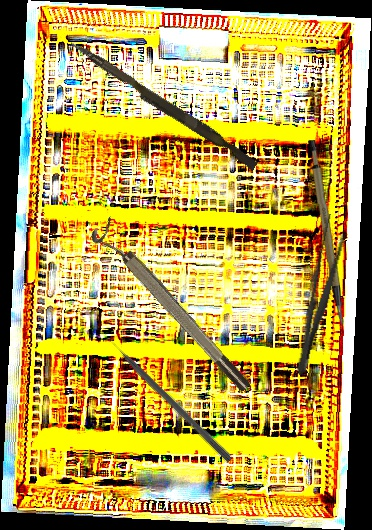Dressing Forceps: (288, 213, 351, 378)
Fixation Ring: (87, 216, 255, 401)
Pusher: (64, 39, 262, 171), (101, 330, 235, 464)
Scalpel Handle: (305, 139, 345, 327)
